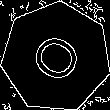O_SE: (24, 26, 88, 88)
